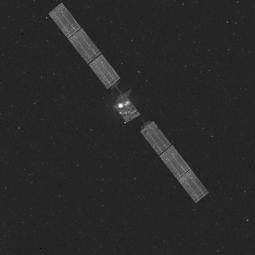smart_1: (78, 46, 178, 142)
